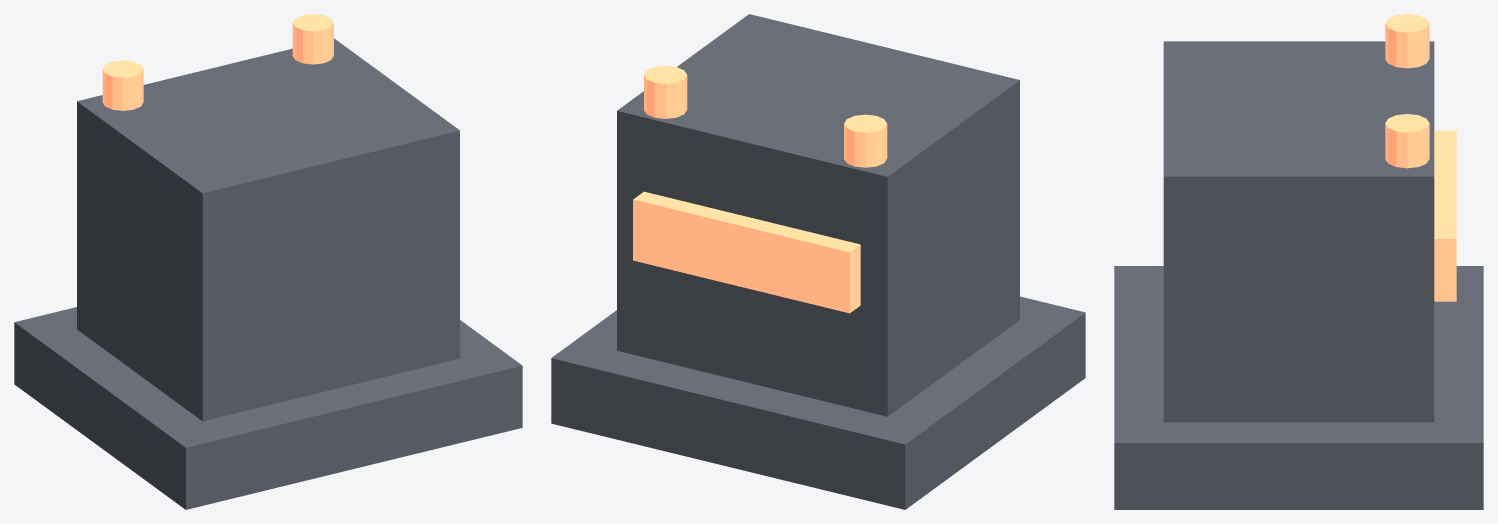
File: calibration_emitter.glb
3 views of the same model, side by side, from view 1: azimuth 30°, elevation 25°; view 2: azimuth 150°, elevation 25°; view 3: azimuth 270°, elevation 25° (orthographic). The views are drawn at different scales.
Visible parts, largest first — view 1: Emitter_Chassis, Base_Plinth, Warning_Light_R, Warning_Light_L; view 2: Emitter_Chassis, Base_Plinth, Scan_Lens_Bar, Warning_Light_L, Warning_Light_R; view 3: Emitter_Chassis, Base_Plinth, Scan_Lens_Bar, Warning_Light_L, Warning_Light_R.
Boxes of the visible parts, <box> form: Emitter_Chassis: <box>77,38,459,421</box>; Base_Plinth: <box>14,307,522,509</box>; Warning_Light_R: <box>292,14,333,64</box>; Warning_Light_L: <box>102,60,143,110</box>; Emitter_Chassis: <box>617,14,1019,416</box>; Base_Plinth: <box>551,296,1085,509</box>; Scan_Lens_Bar: <box>633,191,860,313</box>; Warning_Light_L: <box>844,114,887,167</box>; Warning_Light_R: <box>644,65,687,118</box>; Emitter_Chassis: <box>1163,41,1434,422</box>; Base_Plinth: <box>1114,266,1483,509</box>; Scan_Lens_Bar: <box>1434,130,1456,301</box>; Warning_Light_L: <box>1385,14,1429,68</box>; Warning_Light_R: <box>1385,114,1429,168</box>.
Size of the model in its own units: 0.85 by 0.78 by 0.75.
